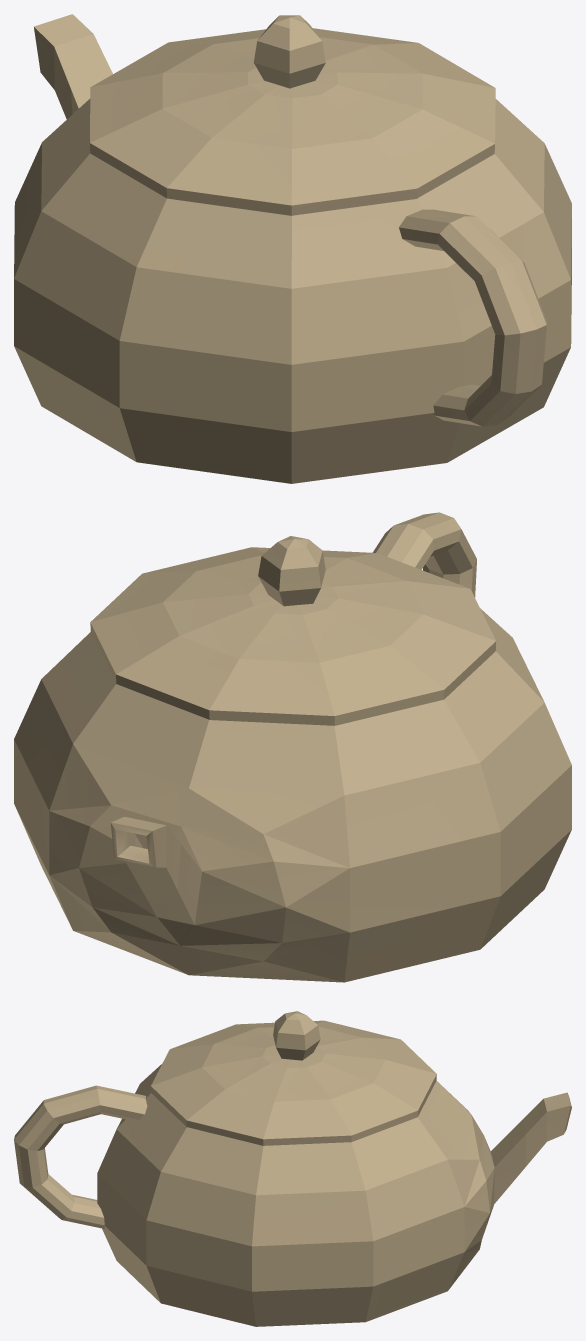
The model's file is TeaPot Asia.fbx.
The picture shows the model from 3 angles, top to bottom: view 1: azimuth 30°, elevation 25°; view 2: azimuth 150°, elevation 25°; view 3: azimuth 270°, elevation 25°; orthographic projection. The views are drawn at different scales.
Parts seen in each view (by area): view 1: TeaPot; view 2: TeaPot; view 3: TeaPot.
Boxes of the visible parts, bbox=[...] form: TeaPot: bbox=[14, 14, 571, 483]; TeaPot: bbox=[14, 512, 571, 982]; TeaPot: bbox=[14, 1011, 571, 1326].
Bounding box in the file's own units: 0.2382 × 0.1628 × 0.3442.
